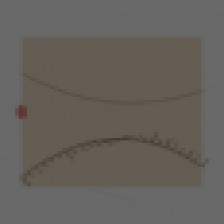foreign_body_visible: (124, 99, 155, 124)
